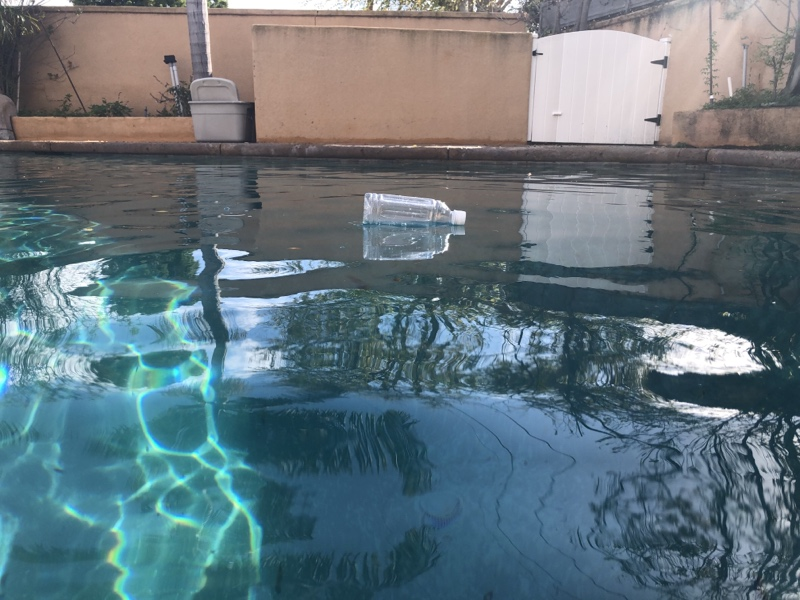Plastic Bottle: (361, 188, 468, 232)
